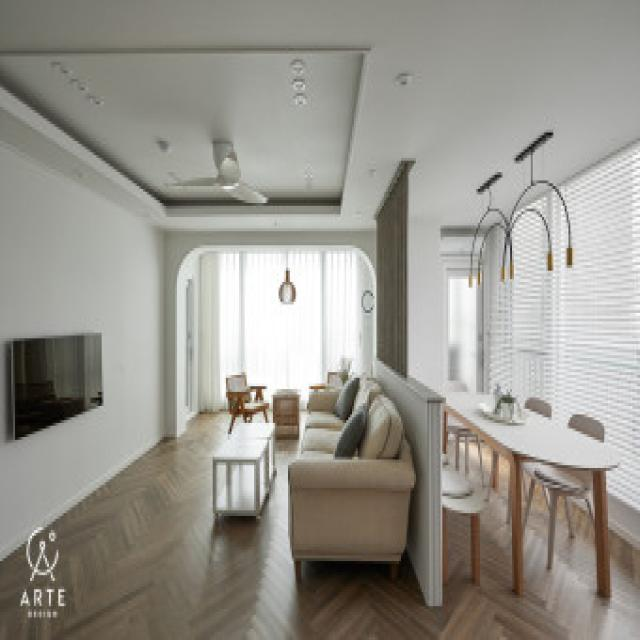Sofa: (298, 368, 413, 592)
Table: (447, 386, 622, 600), (213, 422, 274, 530)
tv: (9, 327, 104, 438)
window: (204, 241, 359, 360)
